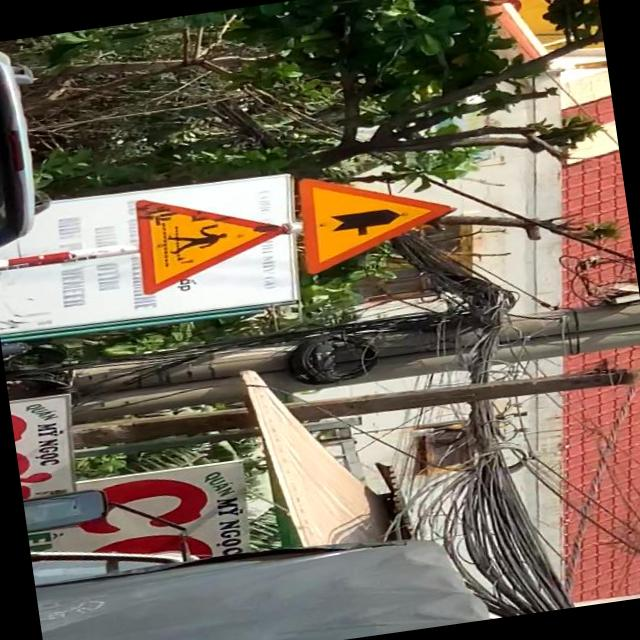W-207b: (286, 156, 458, 277)
W-224: (132, 178, 300, 295)
